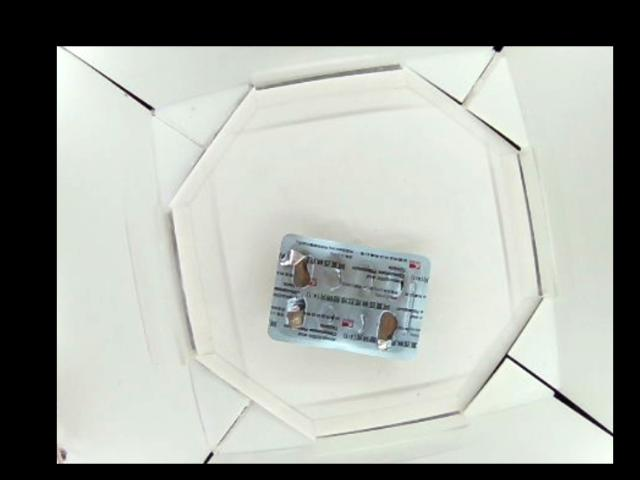Medicine: (265, 231, 434, 361)
